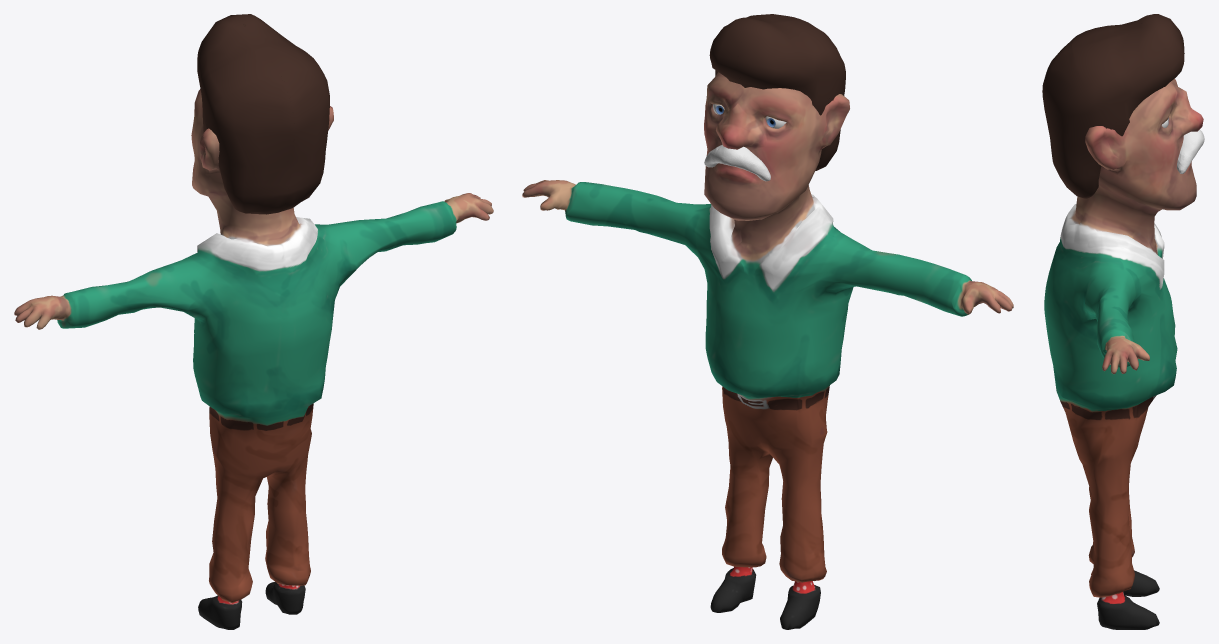
File: Murphy.fbx
3 renders of one model, left to right at view 1: azimuth 30°, elevation 25°; view 2: azimuth 150°, elevation 25°; view 3: azimuth 270°, elevation 25°, orthographic. The views are drawn at different scales.
Visible parts, largest first — view 1: Body_Low, LP_Hair; view 2: Body_Low, LP_Hair, Moustache; view 3: Body_Low, LP_Hair, Moustache.
Part boxes in pixels (bbox=[...]): Body_Low: bbox=[14, 89, 493, 629]; LP_Hair: bbox=[197, 14, 329, 214]; Body_Low: bbox=[522, 72, 1013, 629]; LP_Hair: bbox=[709, 14, 845, 170]; Moustache: bbox=[704, 144, 770, 181]; Body_Low: bbox=[1044, 78, 1203, 629]; LP_Hair: bbox=[1042, 14, 1184, 198]; Moustache: bbox=[1177, 129, 1204, 173].
Size of the model in its own units: 953 by 1120 by 278.
